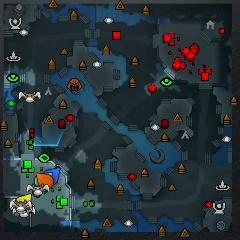p1: (45, 167, 61, 184)
p2: (34, 172, 52, 186)
p4: (17, 193, 32, 203)
p5: (36, 172, 54, 190)
